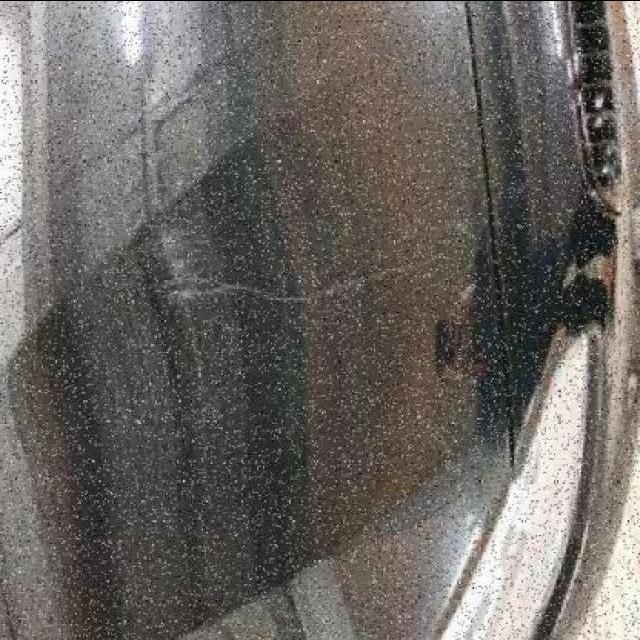bonnet-dent: (0, 3, 551, 640)
